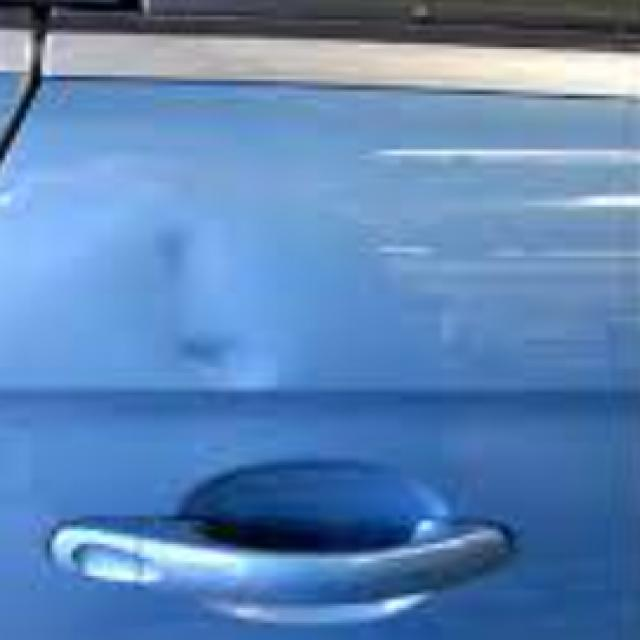dents: (135, 338, 335, 406), (124, 212, 231, 288)
